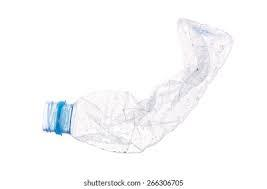plastic: (45, 21, 236, 155)
